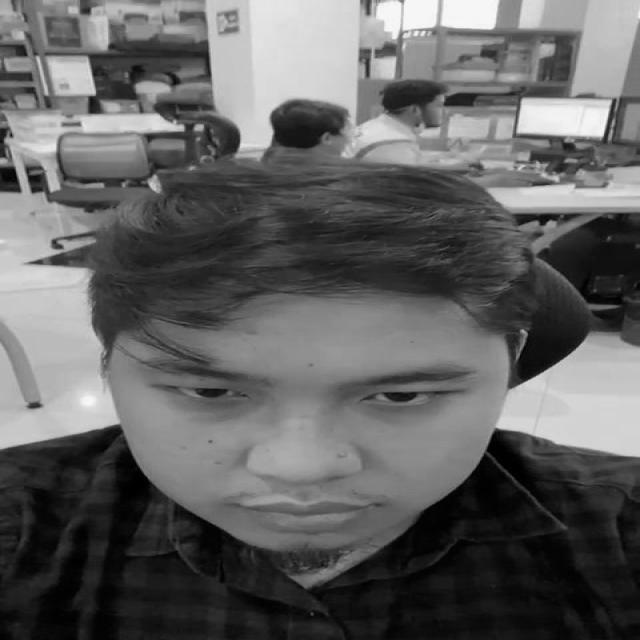real: (104, 292, 500, 560)
